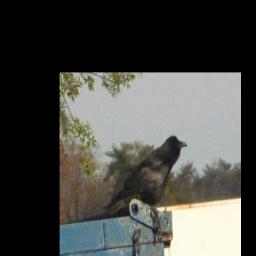Crow: (106, 134, 188, 215)
